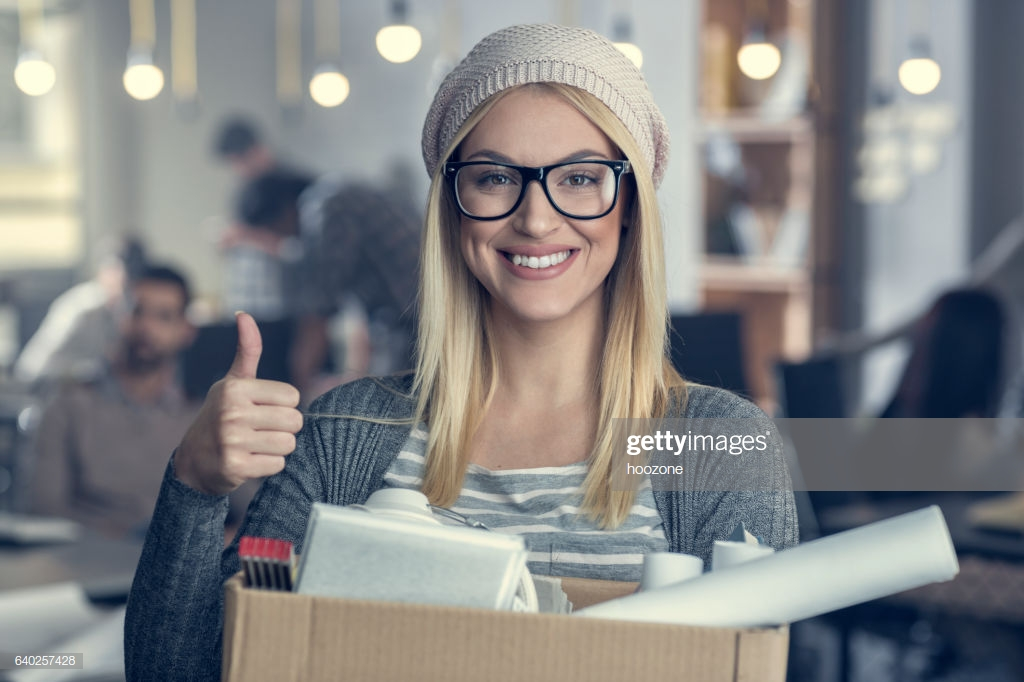thumbsup: (211, 309, 304, 478)
